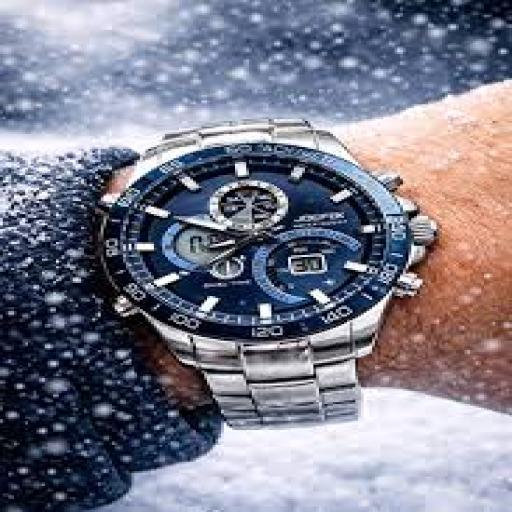KolSaati: (59, 97, 492, 465)
